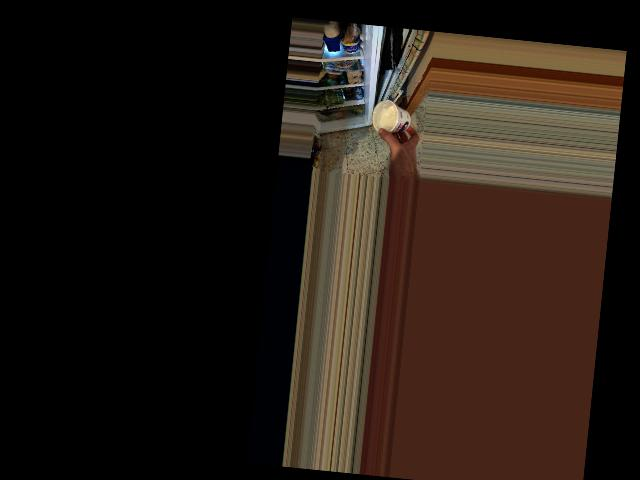cotage: (371, 101, 413, 138)
